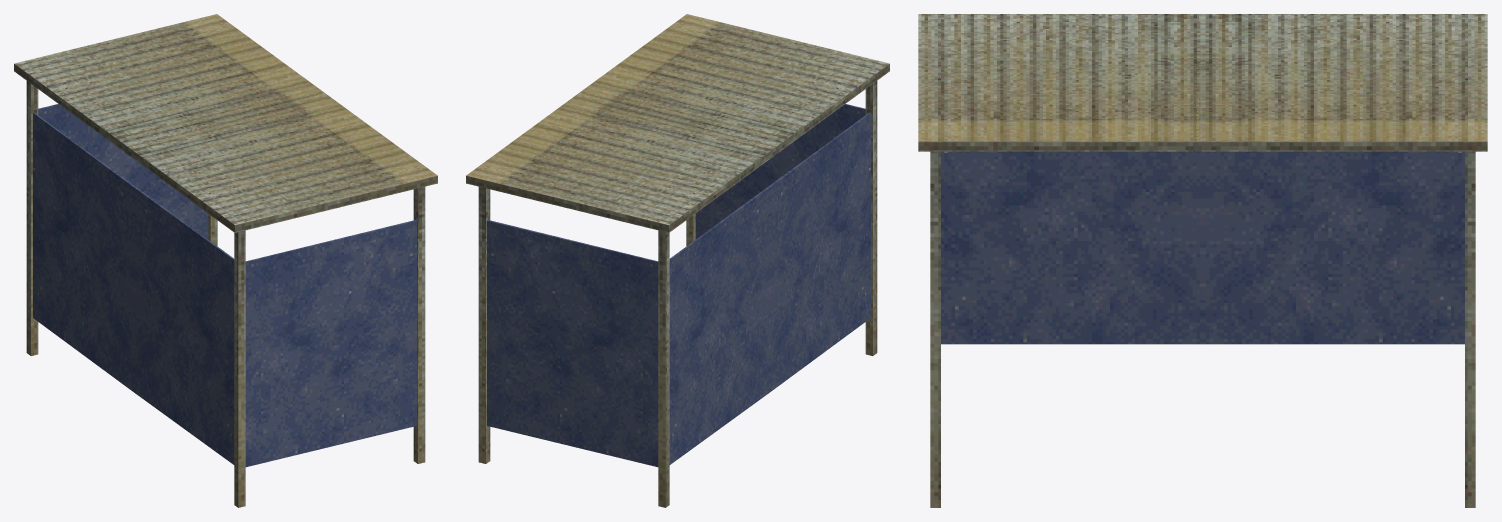
File: busstop.glb
3 views of the same model, side by side, from view 1: azimuth 30°, elevation 25°; view 2: azimuth 150°, elevation 25°; view 3: azimuth 270°, elevation 25° (orthographic). The views are drawn at different scales.
Visible parts, largest first — view 1: busstop; view 2: busstop; view 3: busstop.
Part boxes in pixels (x1,y1,x2,y2): busstop: [14, 14, 437, 507]; busstop: [466, 14, 889, 507]; busstop: [918, 14, 1487, 507].
Size of the model in its own units: 2.26 by 3.07 by 4.26.
1 material, 1 textured.
